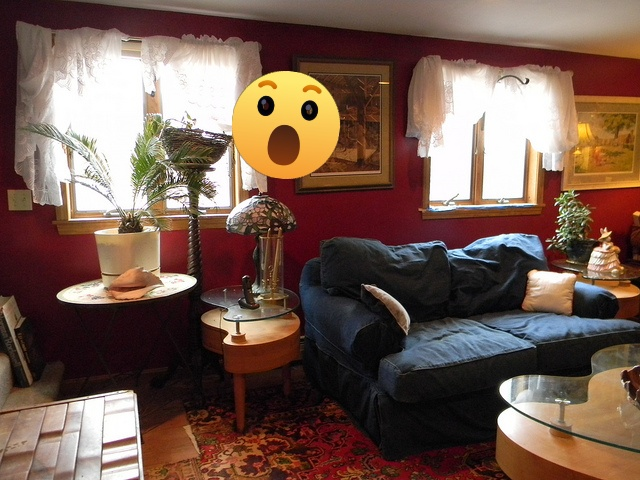wow: (232, 71, 340, 179)
